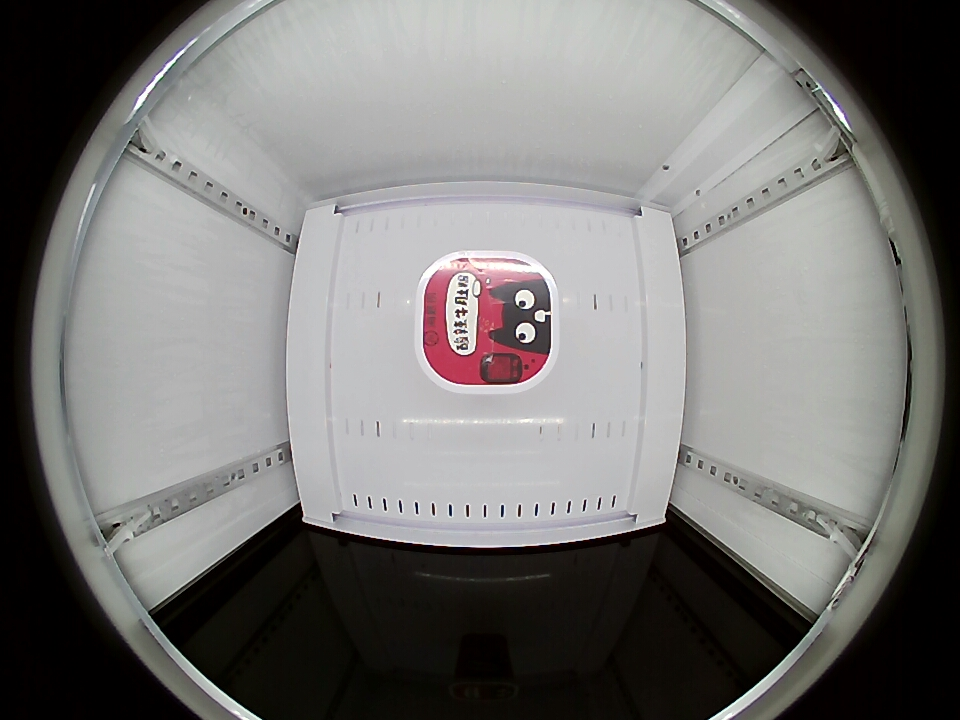niudufen: (418, 251, 556, 391)
